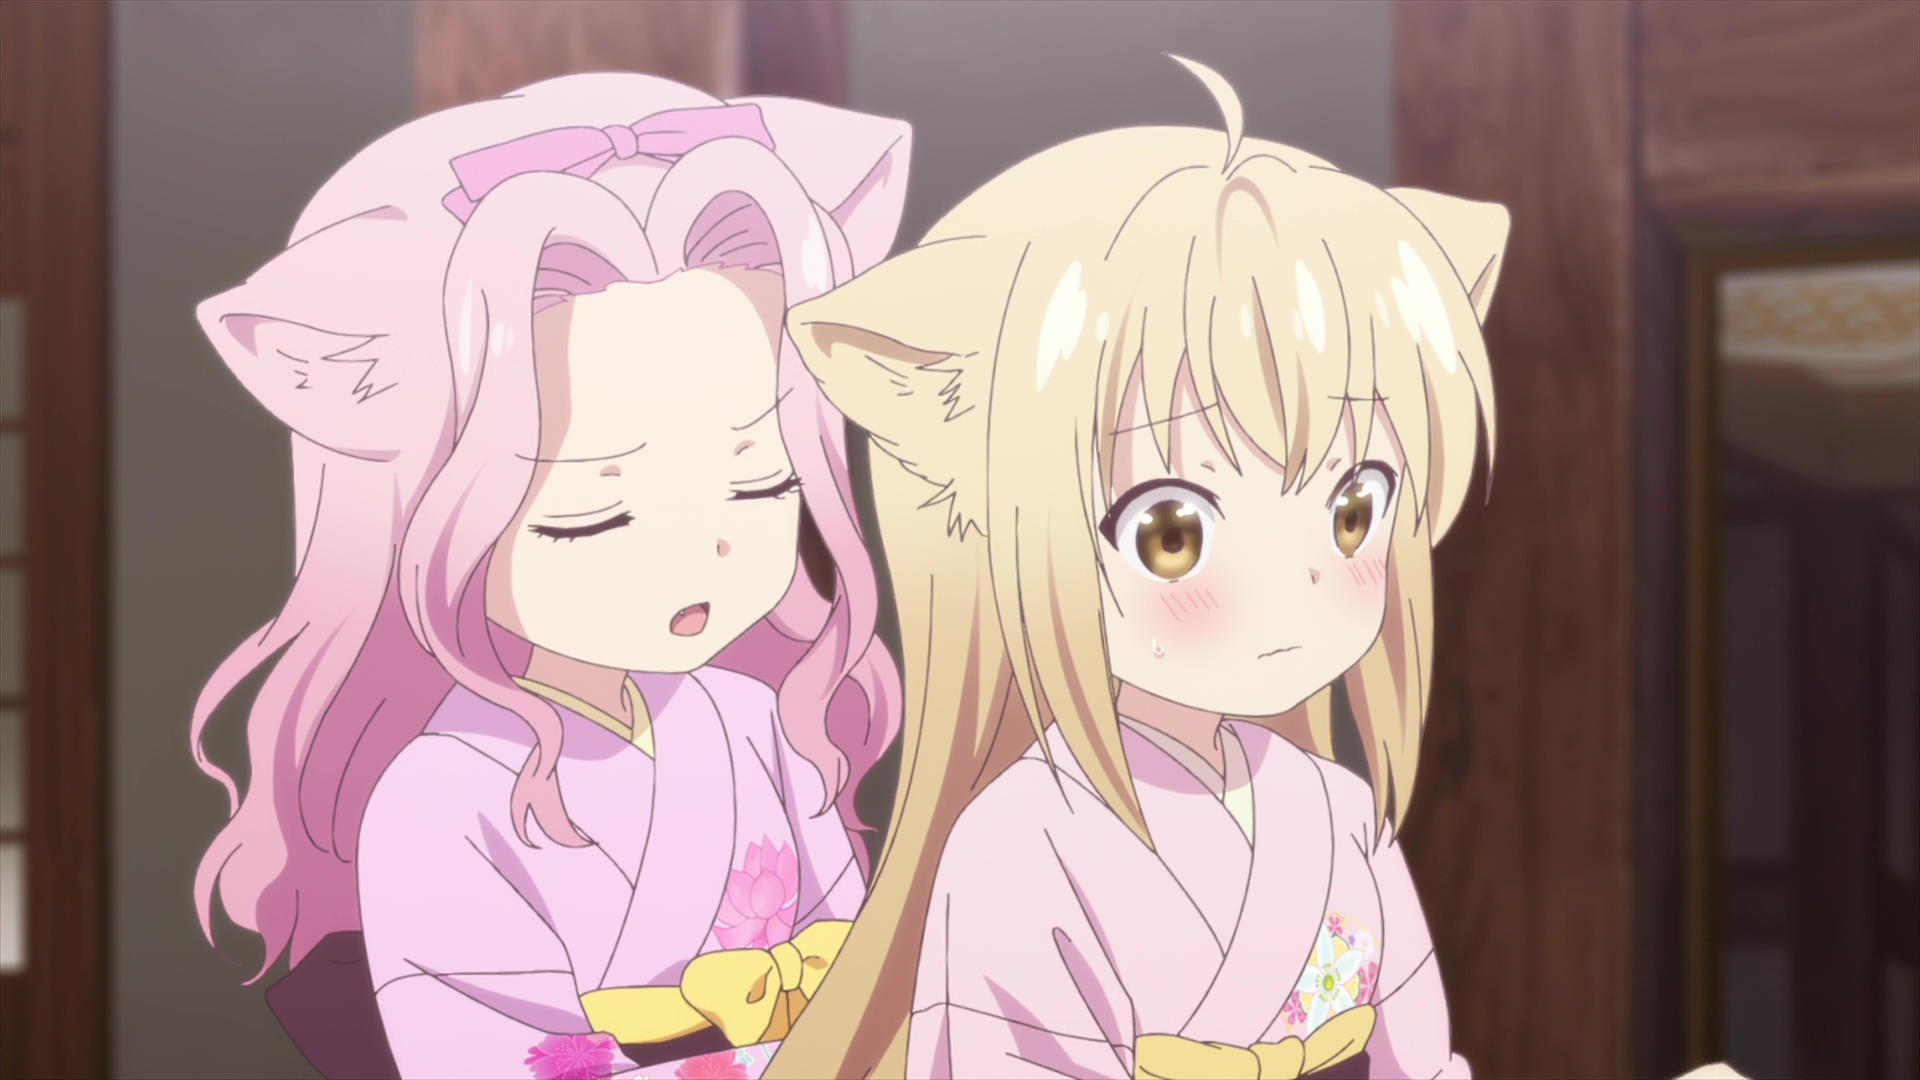柚: (764, 53, 1514, 1080)
莲: (191, 71, 913, 1080)
